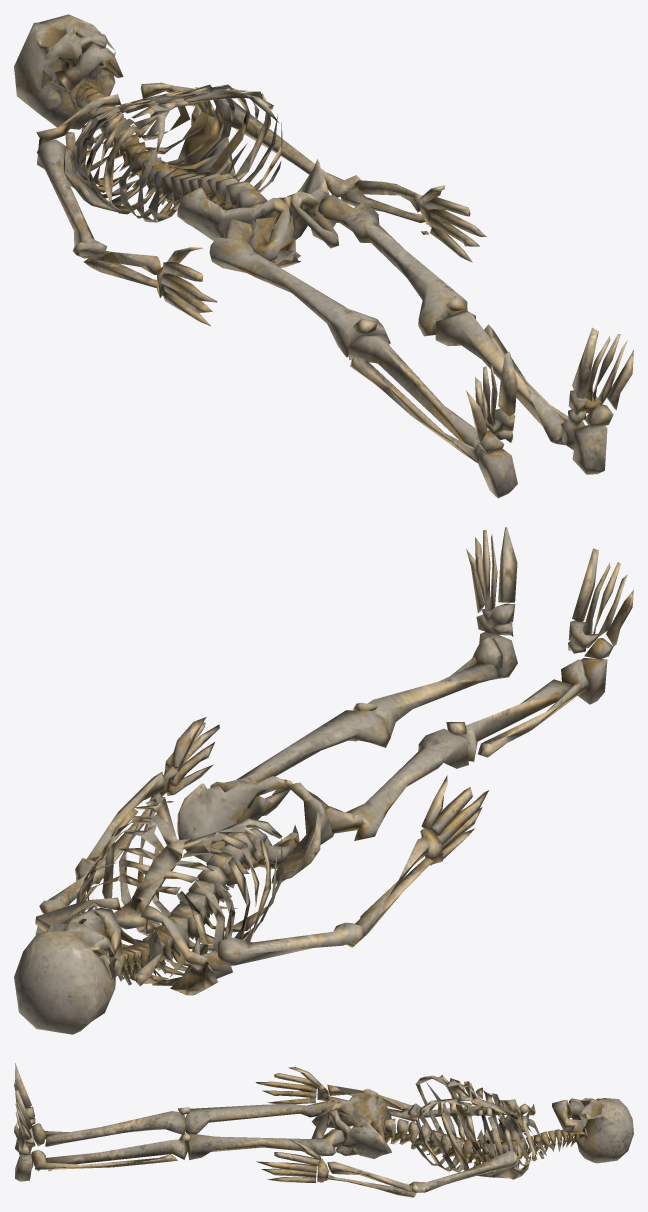
File: SM_Prop_Skeleton2.fbx
3 renders of one model, top to bottom at view 1: azimuth 30°, elevation 25°; view 2: azimuth 150°, elevation 25°; view 3: azimuth 270°, elevation 25°, orthographic. The views are drawn at different scales.
Parts seen in each view (by area): view 1: SM_Prop_Skeleton2_LOD0; view 2: SM_Prop_Skeleton2_LOD0; view 3: SM_Prop_Skeleton2_LOD0.
Part boxes in pixels (box(x1,y1,x2,y2)): SM_Prop_Skeleton2_LOD0: box(14, 14, 633, 498); SM_Prop_Skeleton2_LOD0: box(14, 527, 633, 1034); SM_Prop_Skeleton2_LOD0: box(14, 1063, 633, 1197).
Size of the model in its own units: 59.62 by 186 by 29.9.
1 material, 1 textured.
